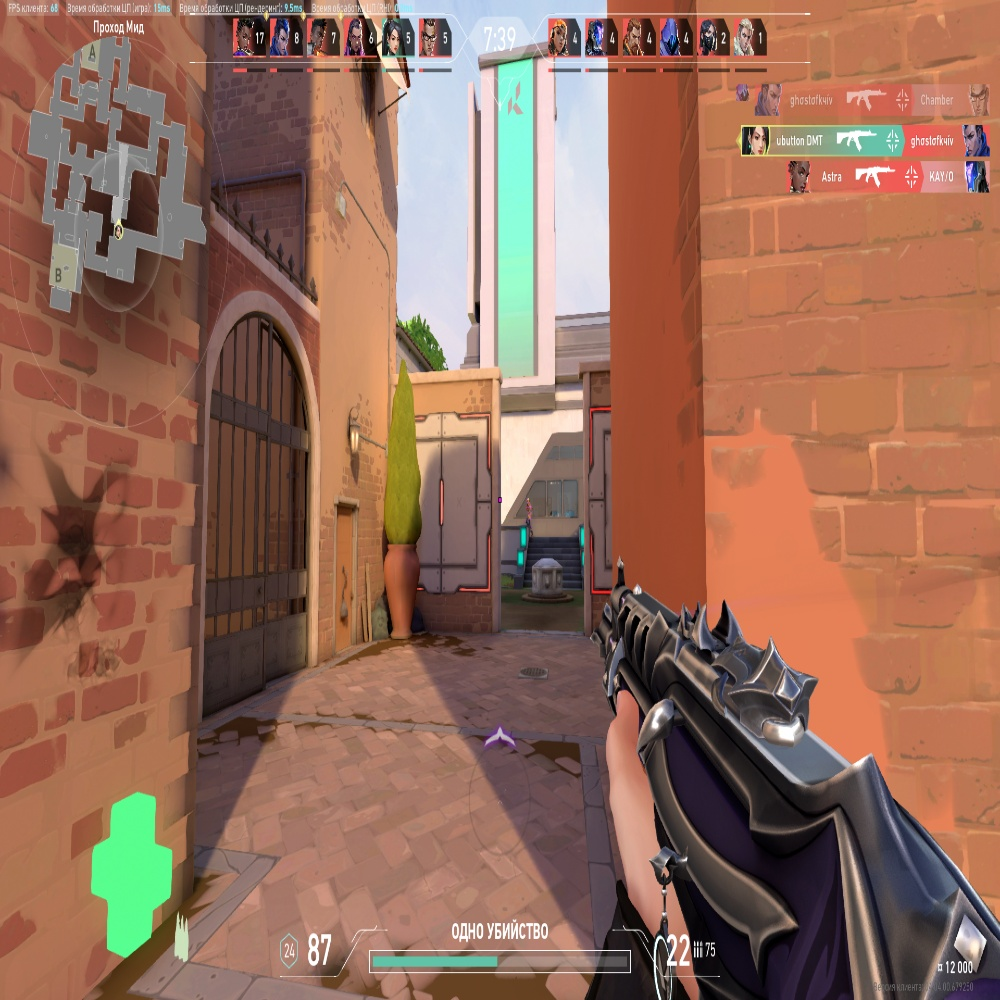body: (526, 505, 532, 517)
head: (527, 498, 530, 503)
